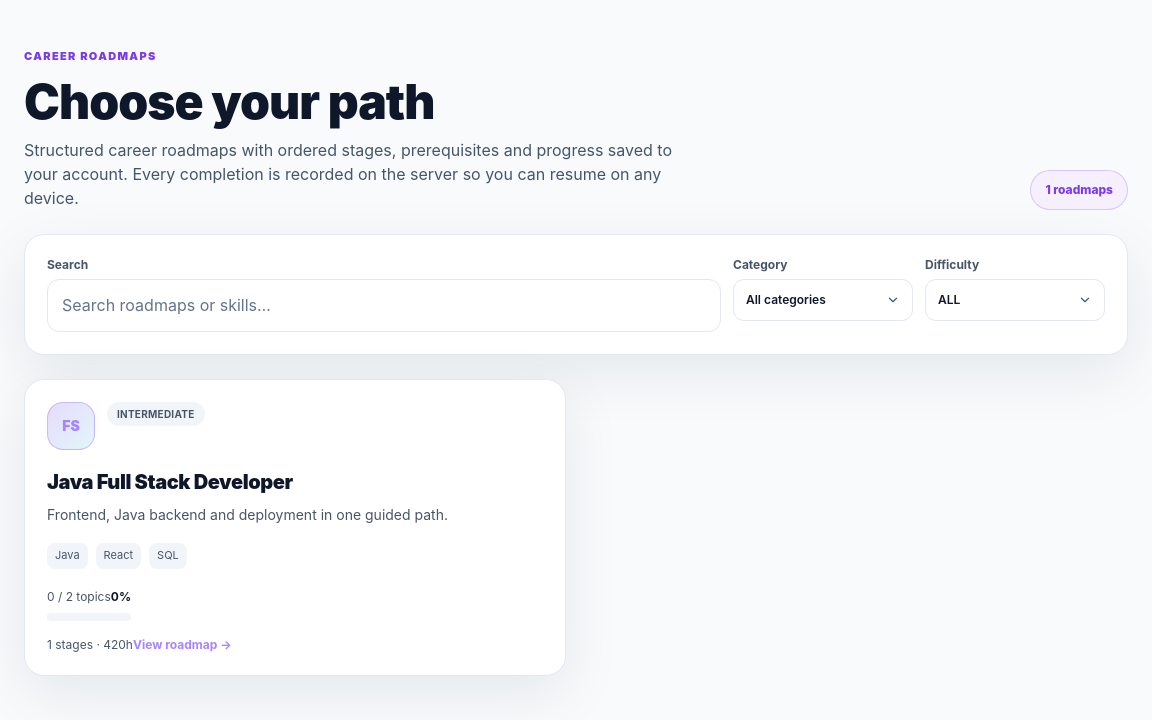
it: Roadmap page › renders the backend catalog and opens a roadmap detail
Later steps or results of the test are not shown.
Click the button that starts with "Intermediate" at (295,528), box x1=24 y1=379 x2=566 y2=676
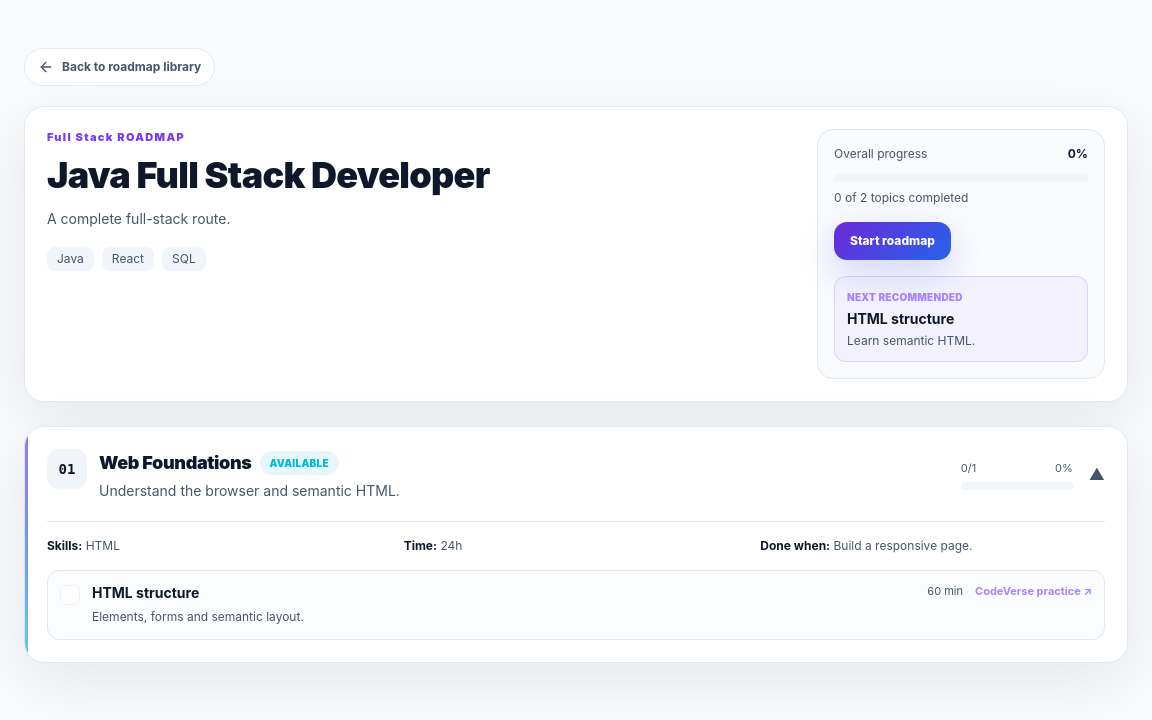
Result: the text "Web Foundations" is shown at x1=99 y1=449 x2=252 y2=477
Result: the text "HTML structure" is shown at x1=847 y1=310 x2=954 y2=327
